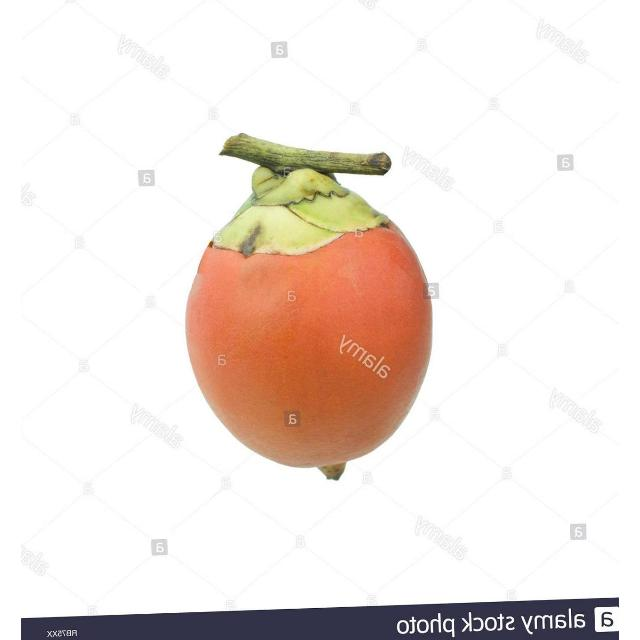good: (184, 134, 435, 478)
